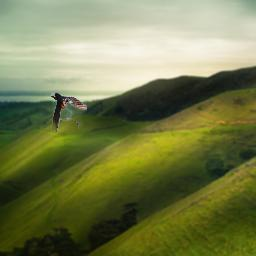Swallow: (51, 93, 87, 133)
